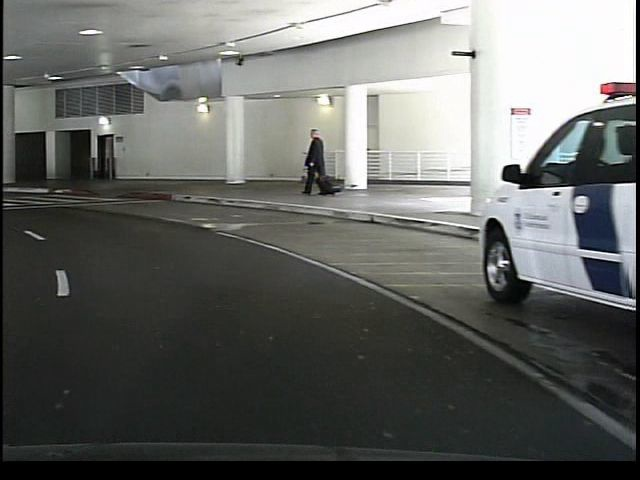person: (295, 126, 333, 204)
